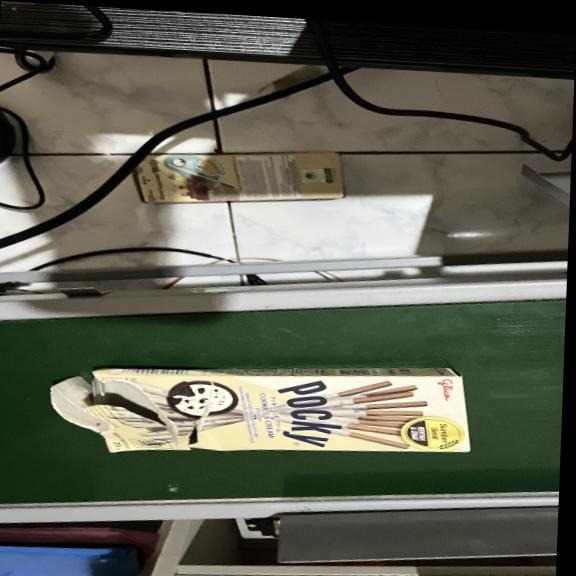Kertas: (83, 353, 474, 473)
